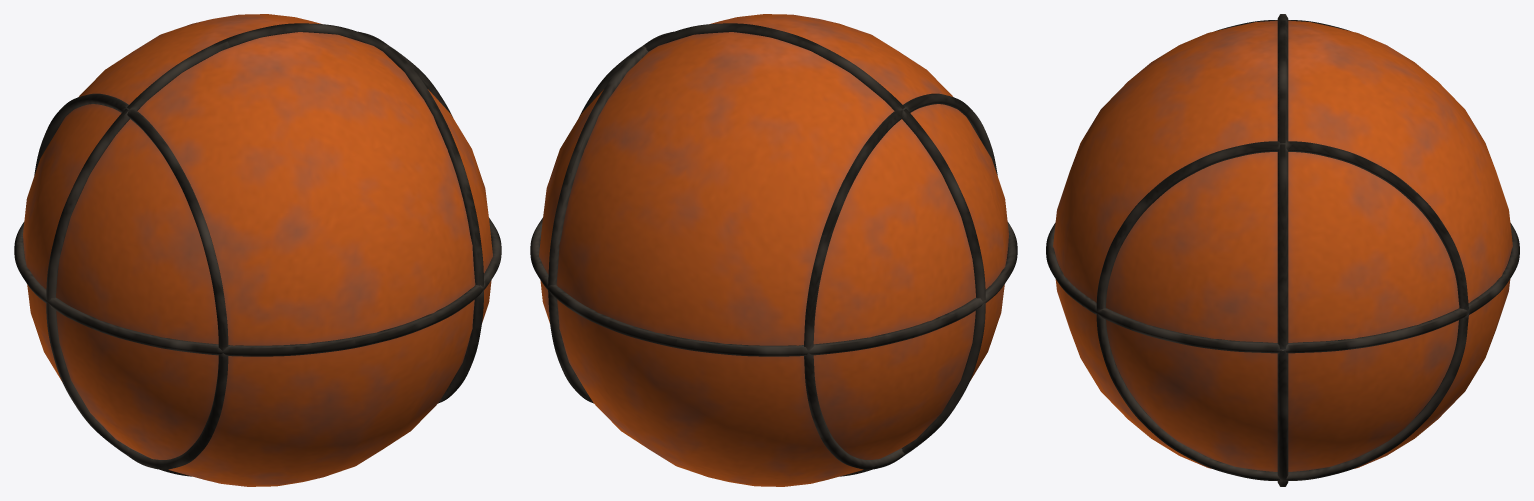
Rendered from boisko_pilka.glb.
3 views of the same model, side by side, from view 1: azimuth 30°, elevation 25°; view 2: azimuth 150°, elevation 25°; view 3: azimuth 270°, elevation 25° (orthographic). The views are drawn at different scales.
Parts seen in each view (by area): view 1: Pilka; view 2: Pilka; view 3: Pilka.
Part boxes in pixels (x1=…): Pilka: x1=14, y1=14, x2=501, y2=486; Pilka: x1=530, y1=14, x2=1017, y2=486; Pilka: x1=1046, y1=14, x2=1519, y2=486.
Size of the model in its own units: 0.2468 by 0.246 by 0.2468.
1 material, 1 textured.
